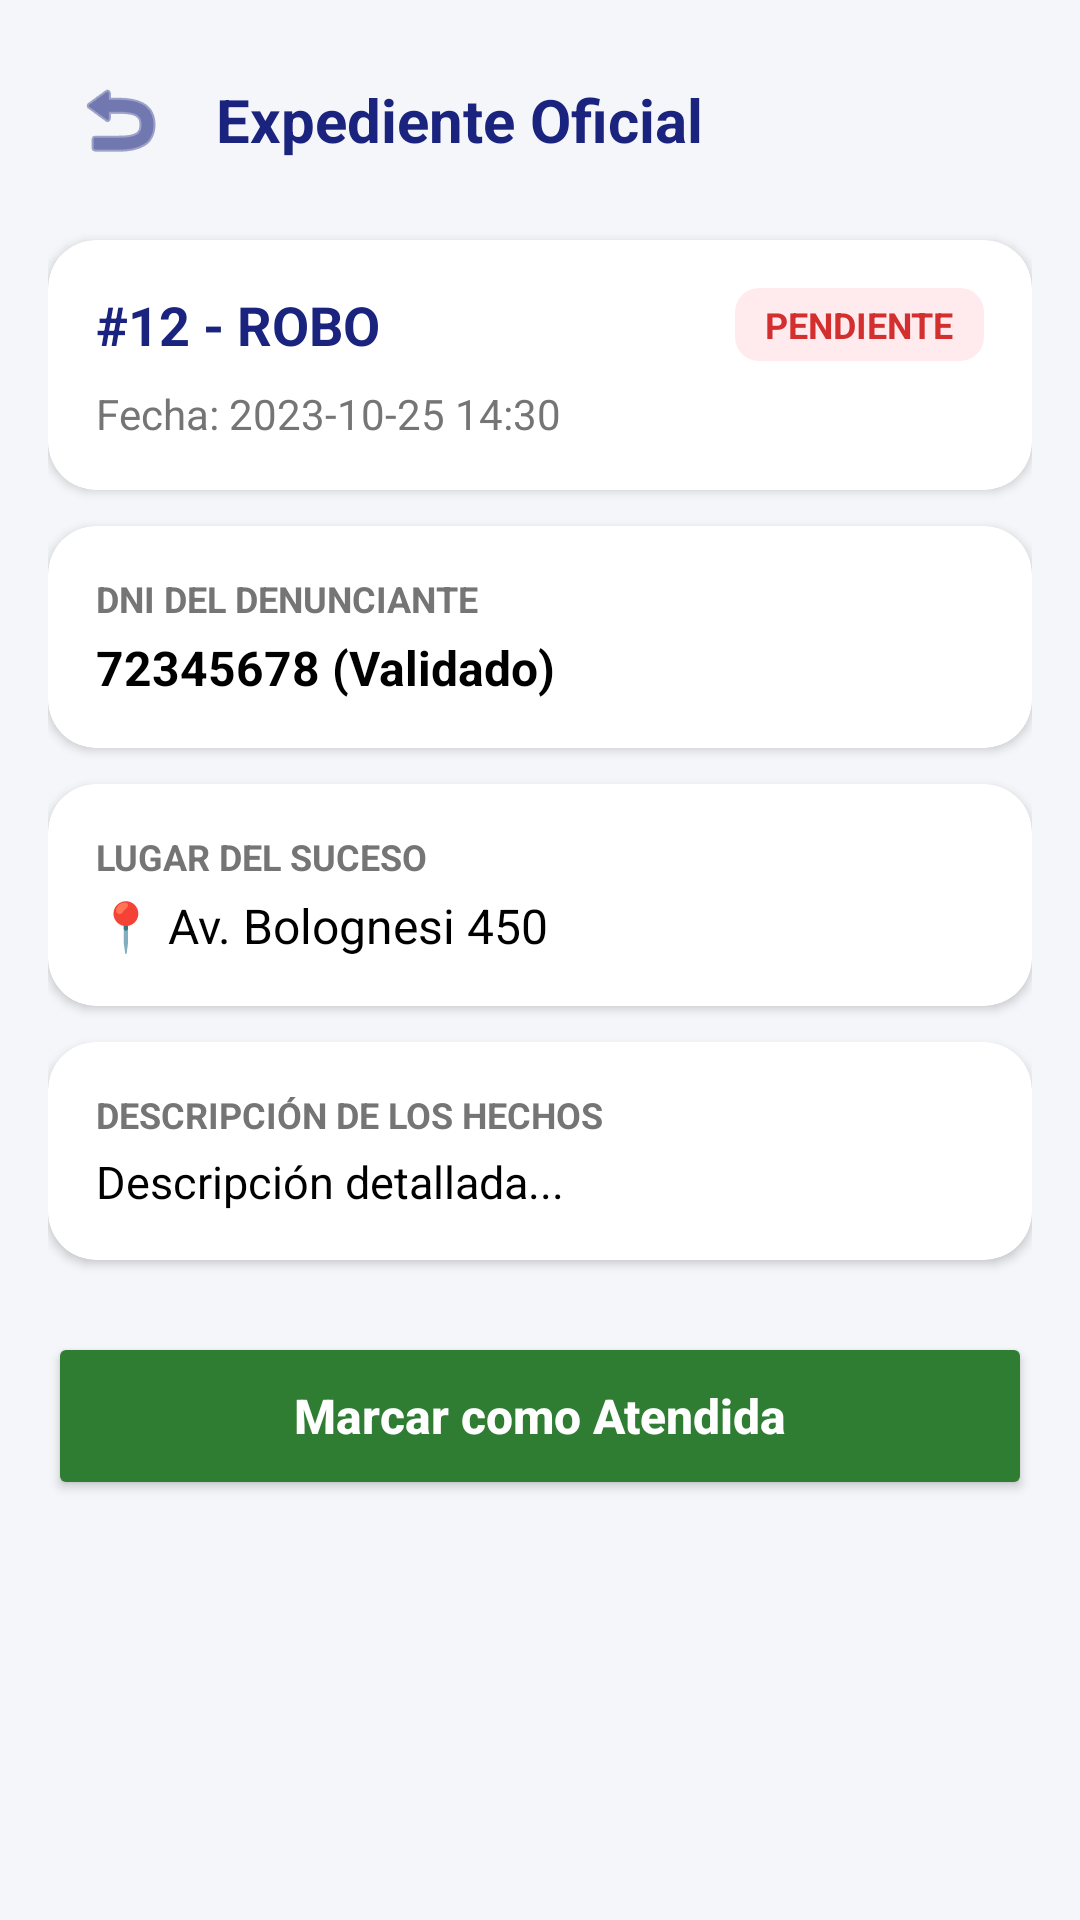

Icon click points for this 1080w x 1920h phone screenshot, format (x,y):
Atrás: (121,120)
